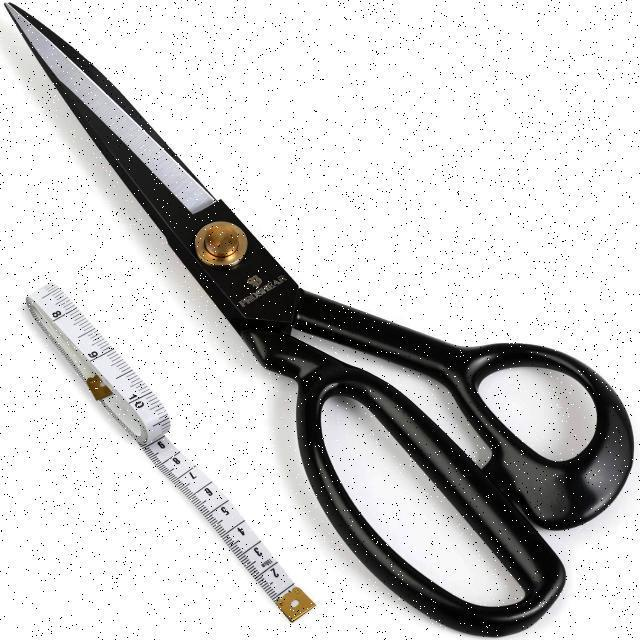scissors: (3, 0, 624, 603)
